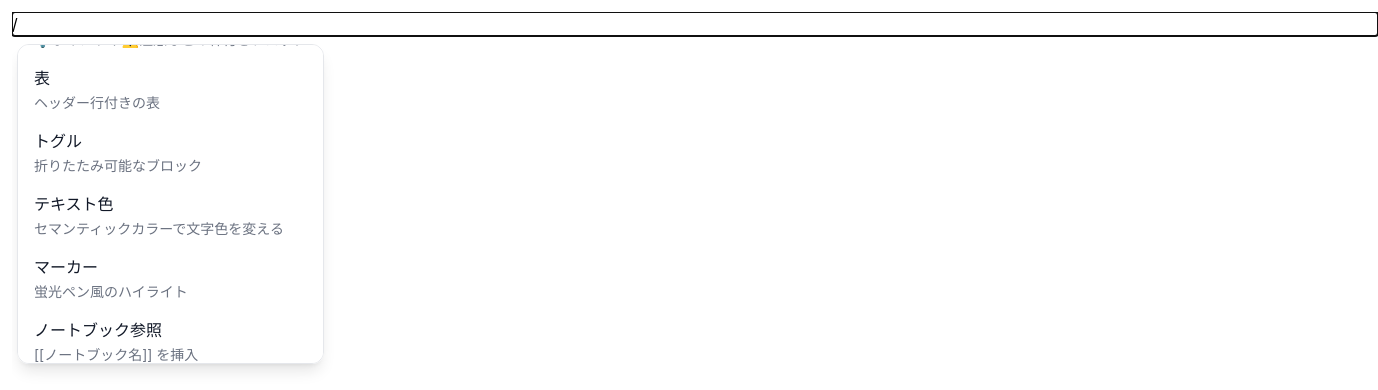
Test: suggestion.render × RichTextEditor 統合（palette モード遷移・Task 7.2 / Req5.3） › 「テキスト色」を選ぶと doc を変更せず palette（textColor）スウォッチへ遷移する（Req5.3）
(page scrolled)
Click the text "テキスト色" at (74, 204), box [34, 194, 114, 214]
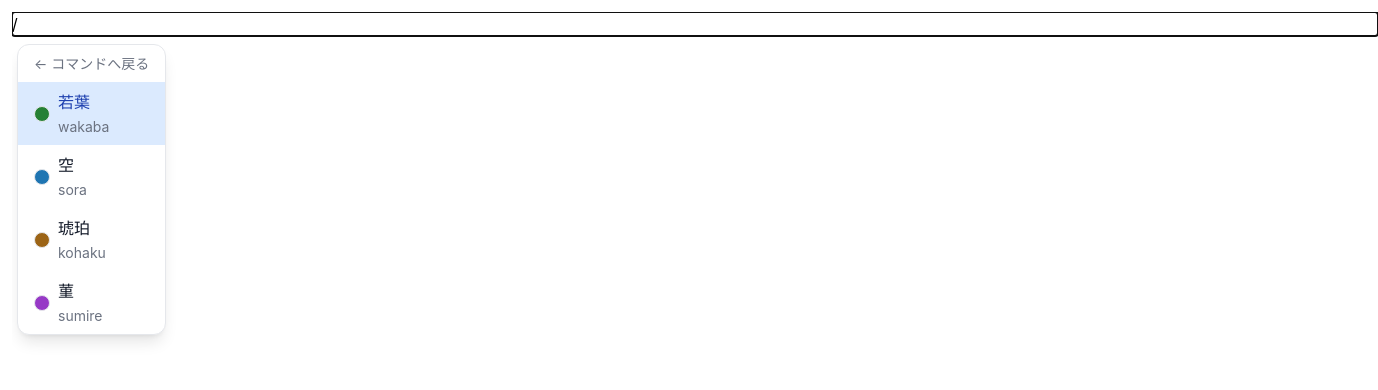
Expected: the text "若葉" is shown, [58, 92, 90, 112]
